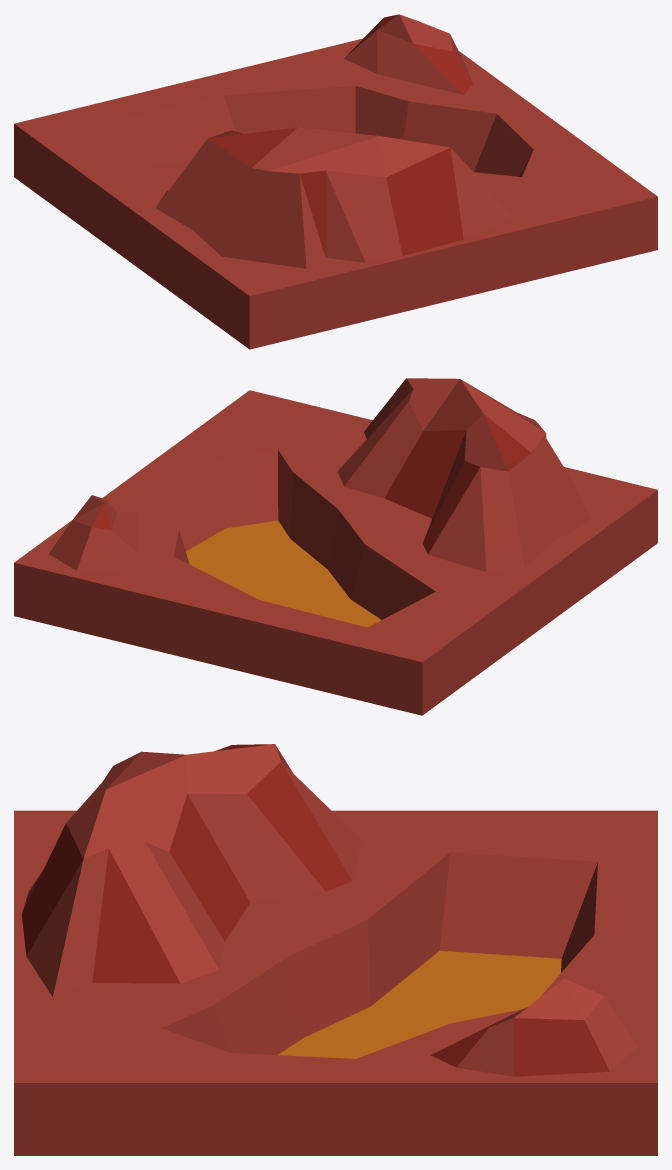
File: Field_6_digged.fbx
3 renders of one model, top to bottom at view 1: azimuth 30°, elevation 25°; view 2: azimuth 150°, elevation 25°; view 3: azimuth 270°, elevation 25°, orthographic. The views are drawn at different scales.
Parts seen in each view (by area): view 1: Plane.020; view 2: Plane.020; view 3: Plane.020.
Boxes of the visible parts, bbox=[...] form: Plane.020: bbox=[14, 14, 657, 349]; Plane.020: bbox=[14, 378, 657, 715]; Plane.020: bbox=[14, 744, 657, 1155].
Bounding box in the file's own units: 400 × 143 × 400.
